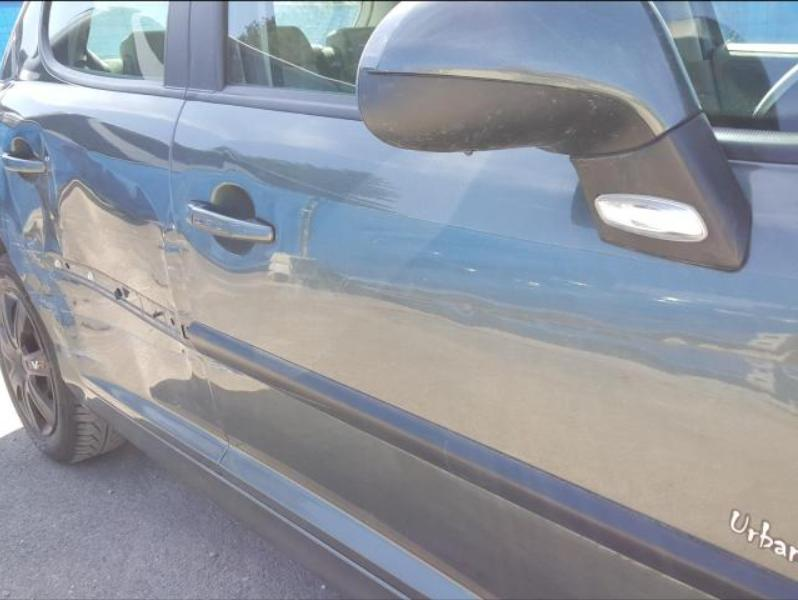Back-door: (2, 2, 228, 464)
Back-wheel: (0, 254, 127, 465)
Back-window: (46, 0, 171, 86)
Front-door: (167, 1, 795, 598)
Front-window: (223, 0, 400, 92), (698, 1, 796, 119)
Mirror: (359, 3, 752, 270)
Quarter-panel: (0, 78, 9, 255)
Rocker-panel: (66, 376, 430, 599)
